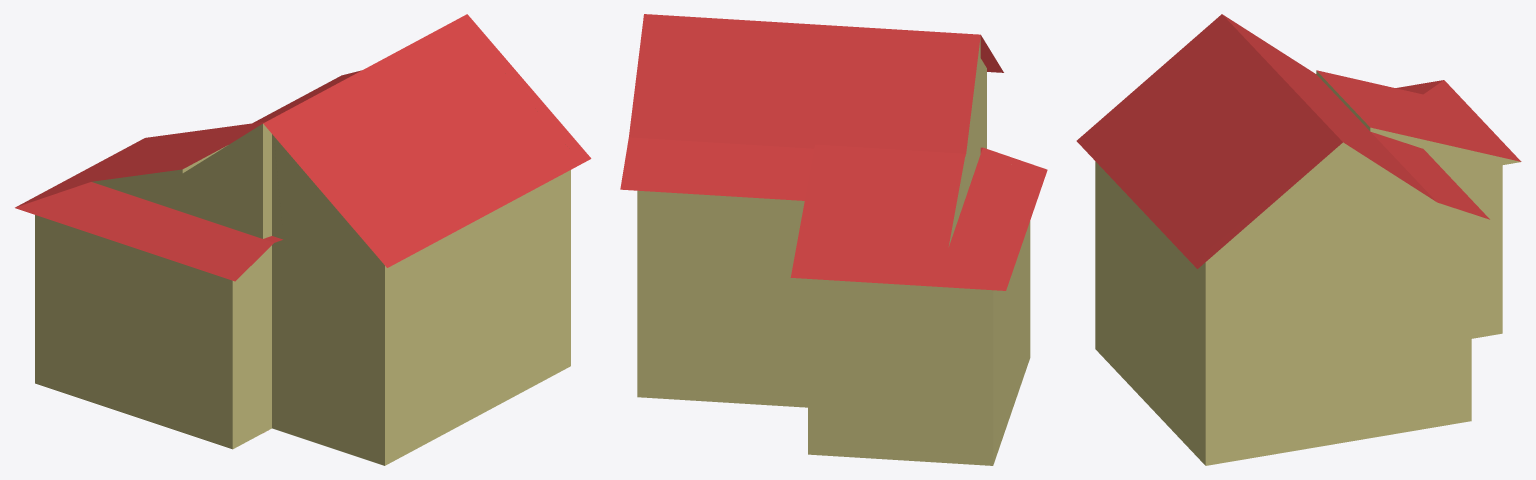
The picture shows the model from 3 angles, left to right: view 1: azimuth 30°, elevation 25°; view 2: azimuth 150°, elevation 25°; view 3: azimuth 270°, elevation 25°; orthographic projection. The views are drawn at different scales.
Size of the model in its own units: 17.75 by 15.26 by 11.61.
